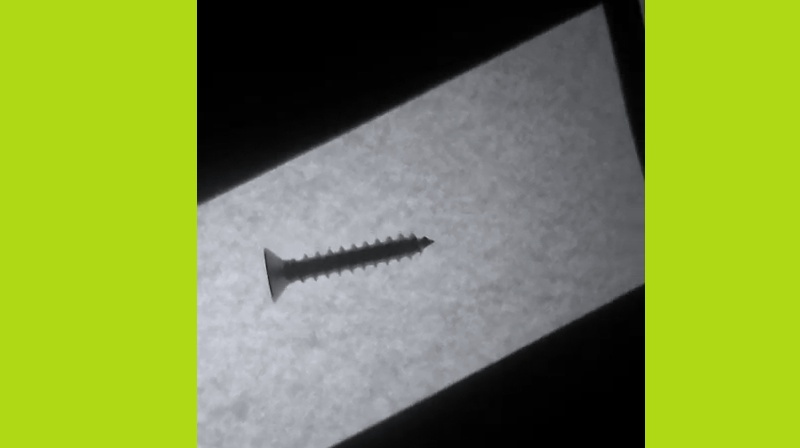S001: (256, 230, 436, 304)
